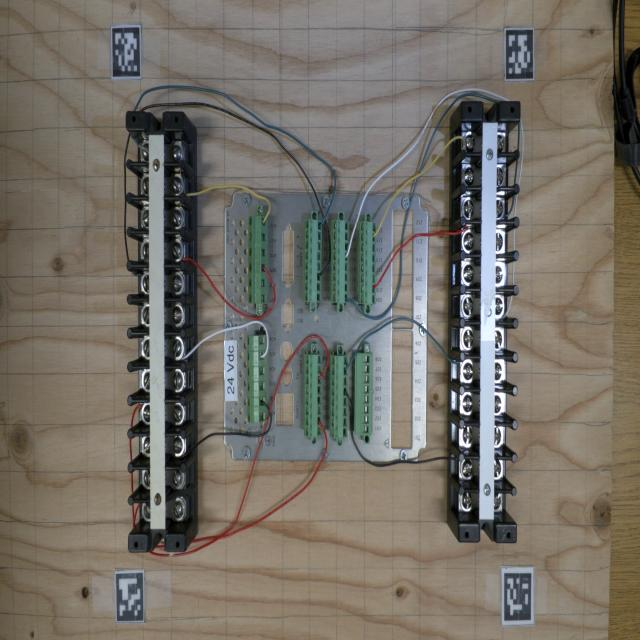Flathead_Block: (127, 112, 186, 551)
Phillips_Block: (459, 102, 520, 543)
Terminal_1: (247, 335, 267, 423), (248, 216, 267, 304)
Terminal_2: (303, 219, 322, 302), (330, 355, 348, 439), (304, 354, 322, 437), (358, 221, 376, 304), (331, 220, 349, 303)
